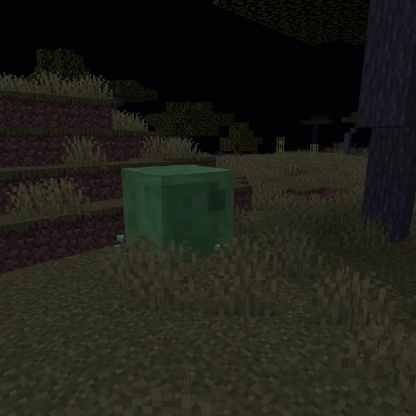slime: (115, 160, 242, 268)
